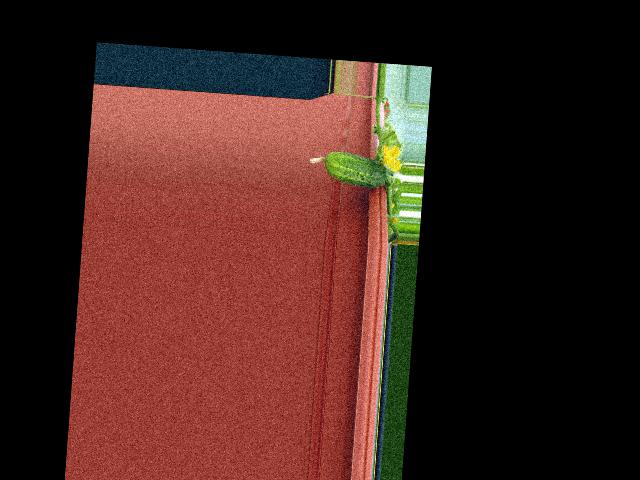cucumber: (307, 149, 388, 188)
